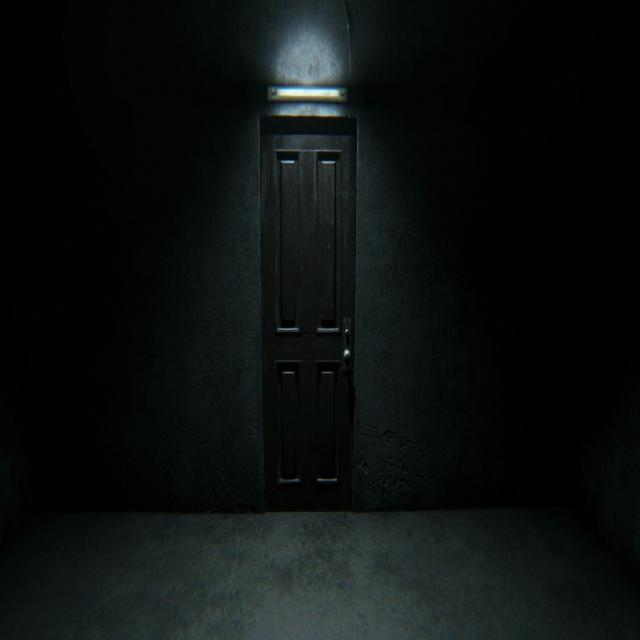close: (261, 116, 355, 499)
